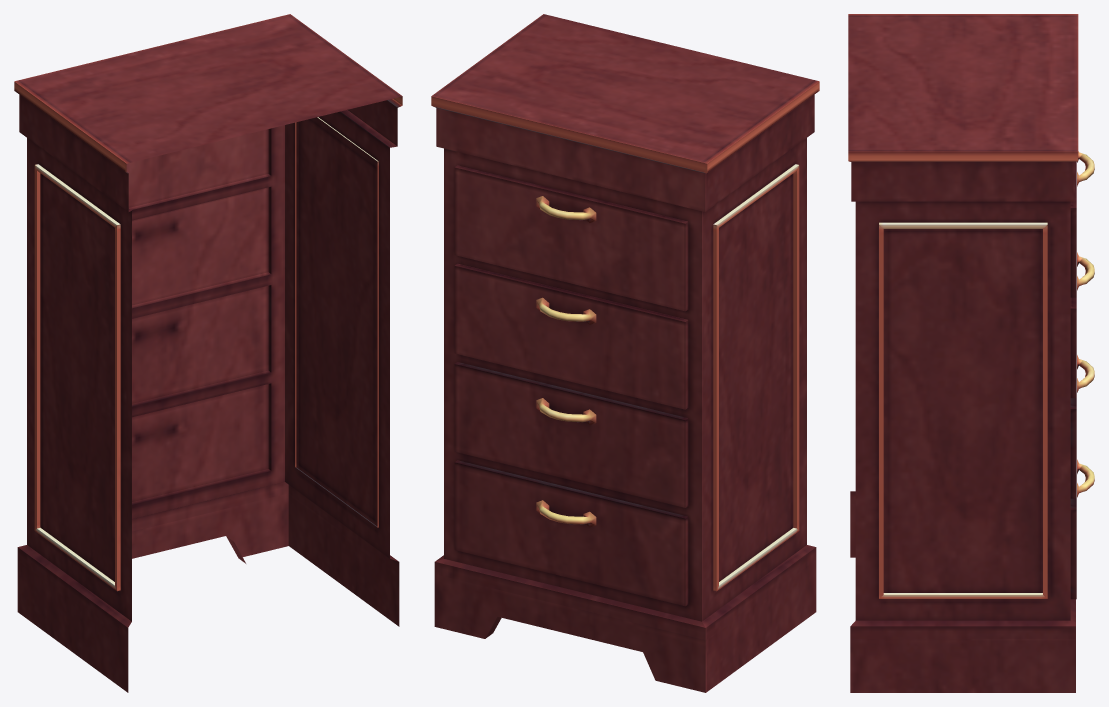
Rendered from geo_Obstacle_NightStand.FBX.
3 renders of one model, left to right at view 1: azimuth 30°, elevation 25°; view 2: azimuth 150°, elevation 25°; view 3: azimuth 270°, elevation 25°, orthographic. The views are drawn at different scales.
Visible parts, largest first — view 1: geo_HotelRoom.001; view 2: geo_HotelRoom.001; view 3: geo_HotelRoom.001.
Part boxes in pixels (x1=…): geo_HotelRoom.001: x1=14, y1=14, x2=402, y2=692; geo_HotelRoom.001: x1=431, y1=14, x2=819, y2=692; geo_HotelRoom.001: x1=848, y1=14, x2=1094, y2=692.
Size of the model in its own units: 595 by 1093 by 450.
